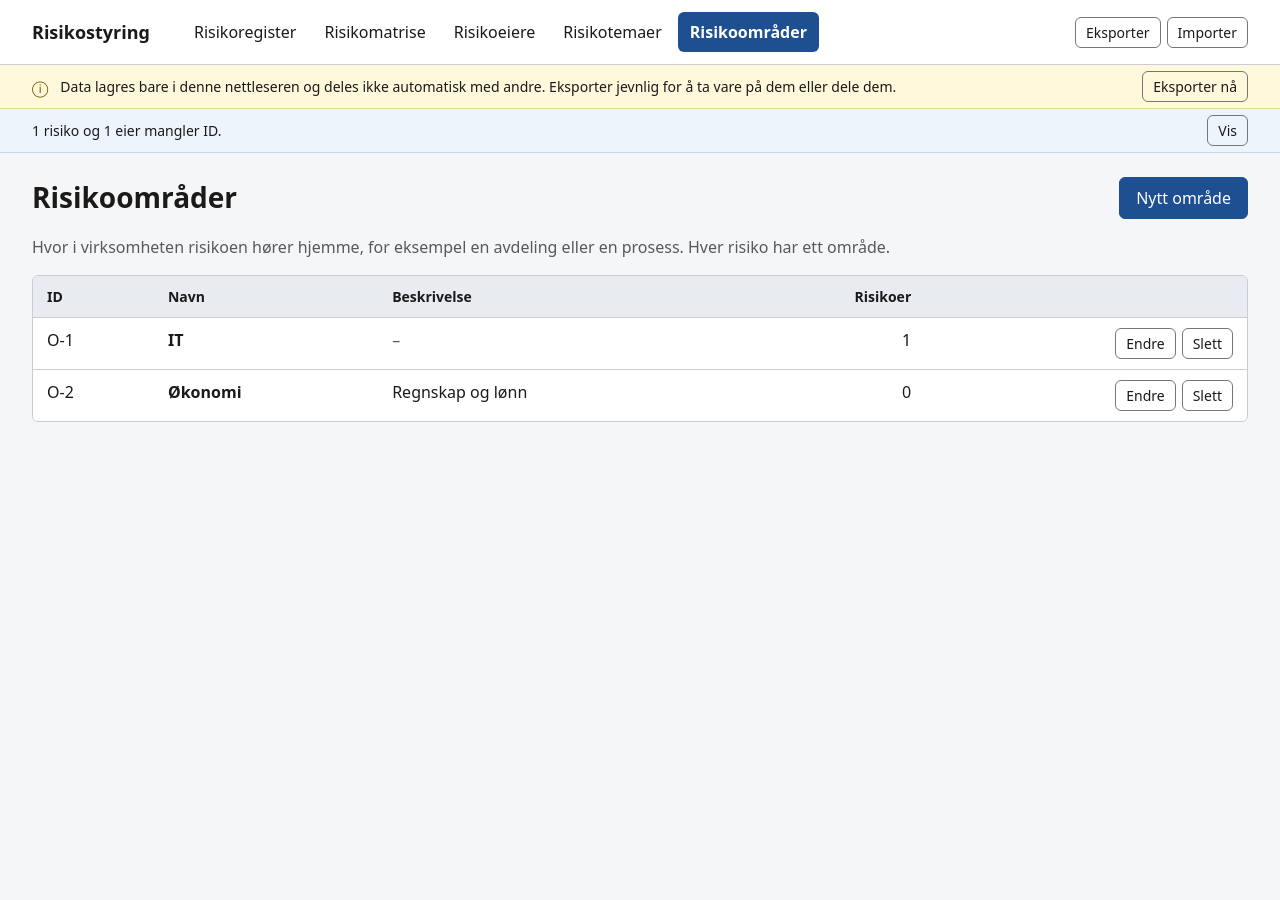
Test case: Risikoområder › endrer element
expect the heading "Risikoområder" is shown: met, box [32,181,237,215]
Click the button with aria-label "Endre Økonomi" at coordinates (1145, 396), box [1115,380,1176,411]
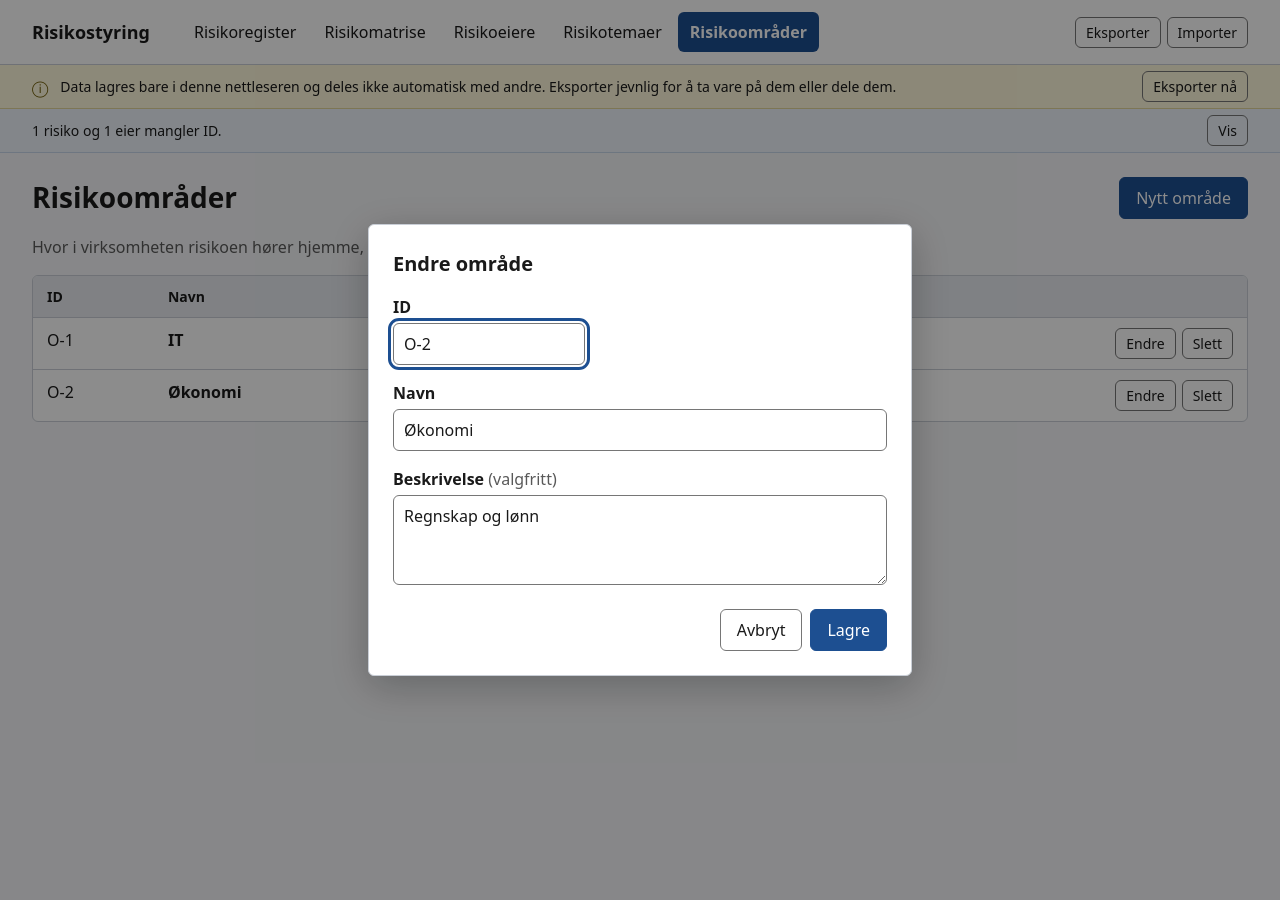
Type " – oppdatert" into the text box labelled "Beskrivelse (valgfritt)" at coordinates (640, 540), box [393,495,887,585]
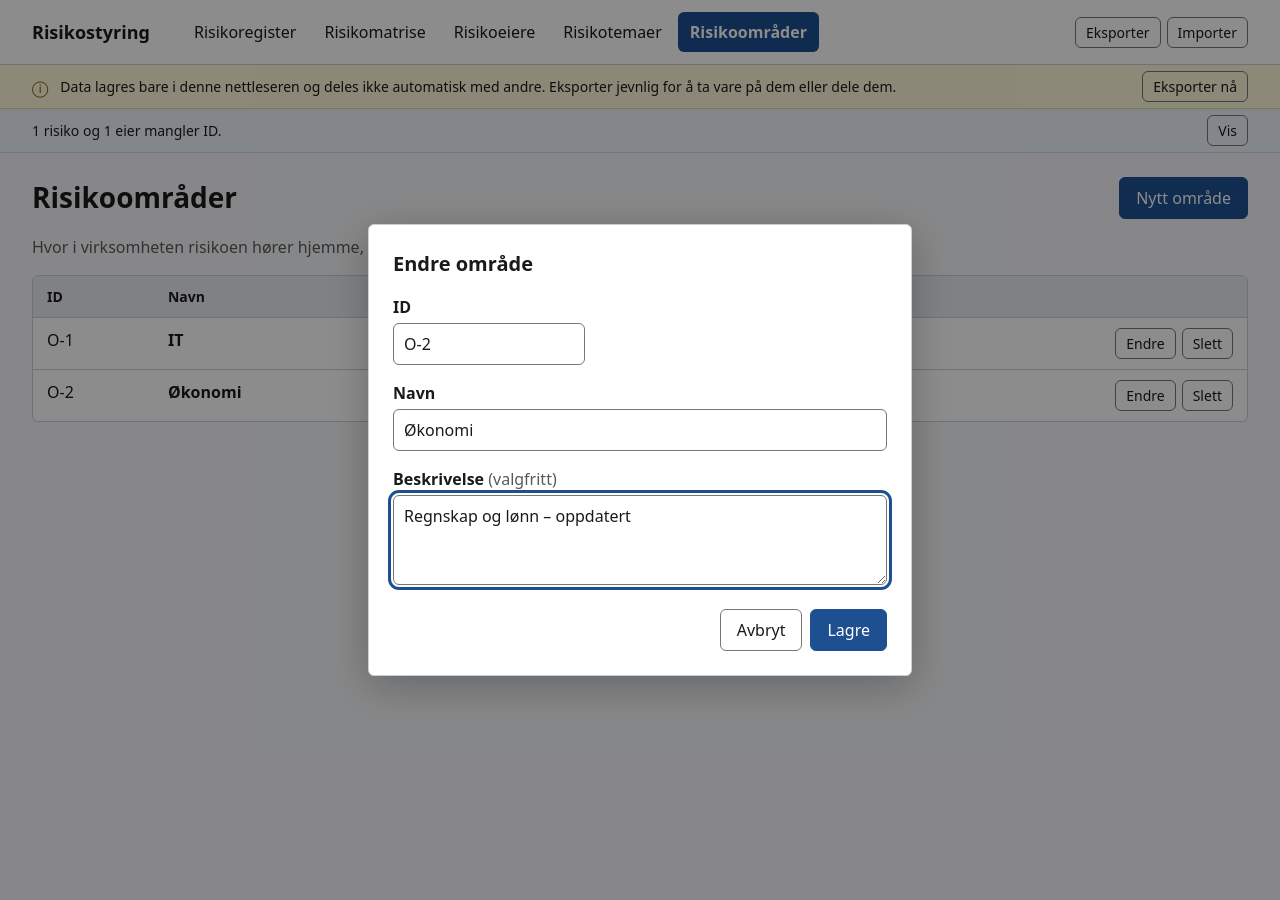
Click the button "Lagre" at coordinates (849, 630), box [810,609,887,651]
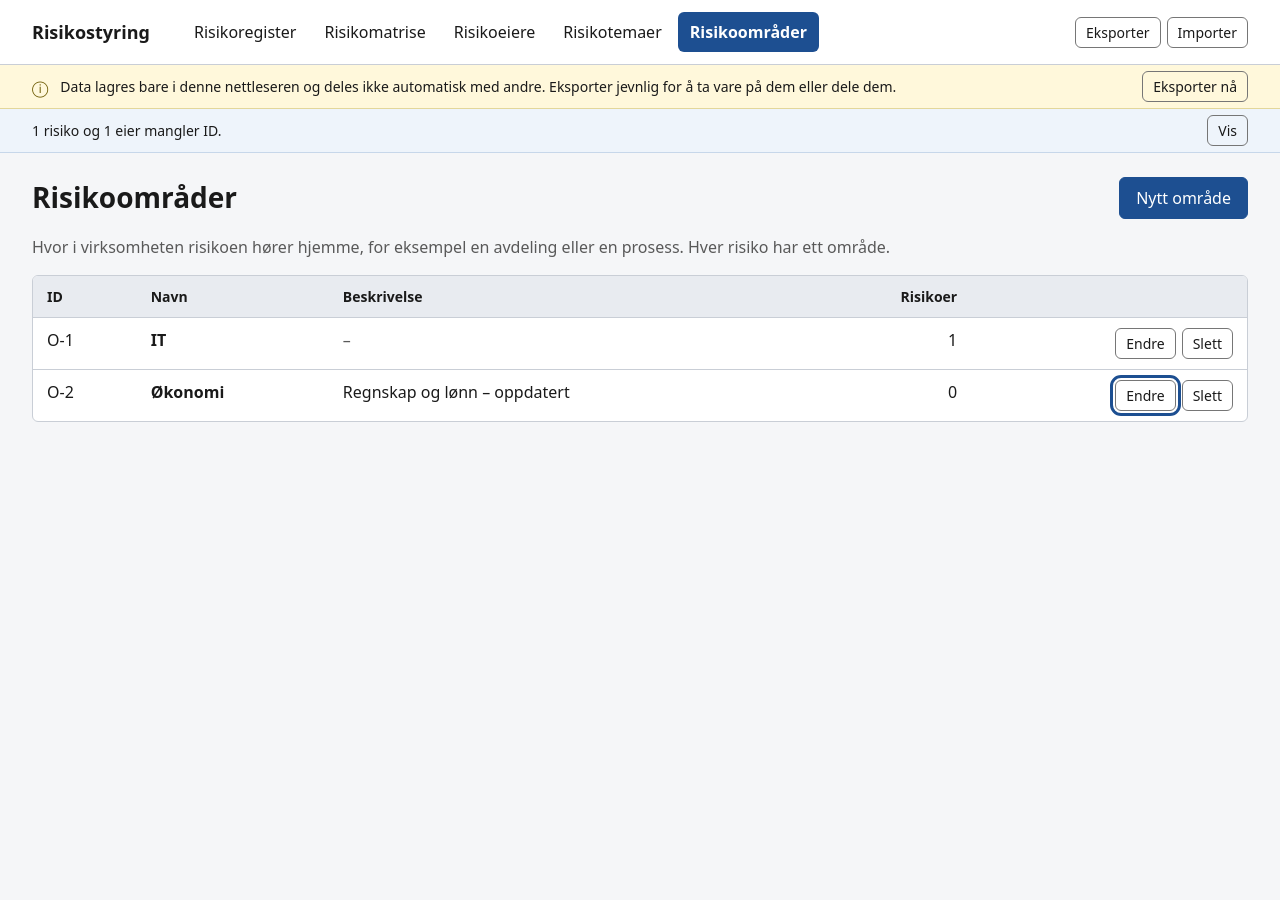
expect the text "Regnskap og lønn – oppdatert" is shown: met, box [329,370,811,421]
